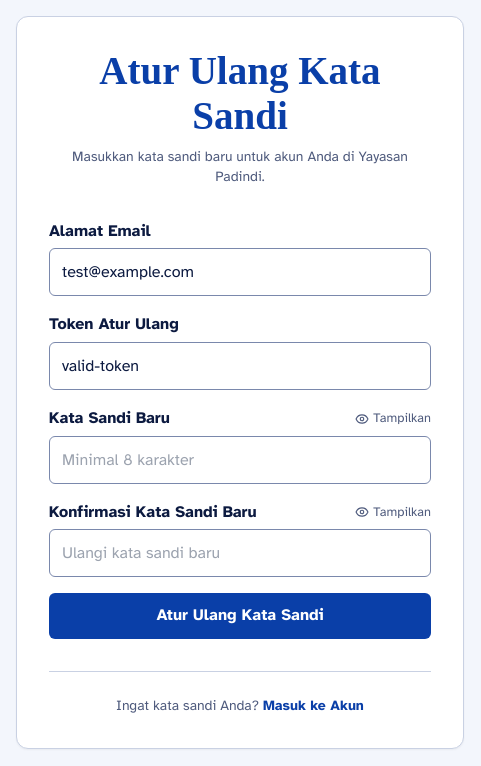
Test: ResetPasswordPage › berhasil mengirim kata sandi baru dan menampilkan pesan sukses
Type "KataSandi123" into the password field labelled "Kata Sandi Baru".
click(240, 460); type("KataSandi123")  # box [49, 436, 431, 484]
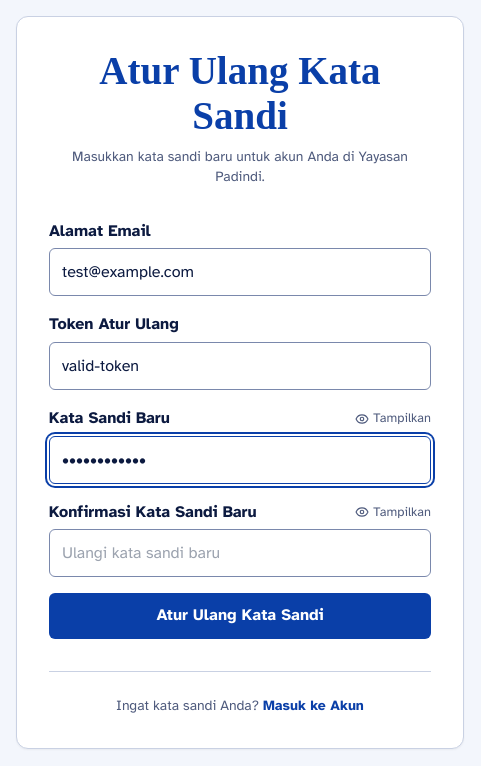
Type "KataSandi123" into the password field labelled "Konfirmasi Kata Sandi Baru".
click(240, 553); type("KataSandi123")  # box [49, 529, 431, 577]
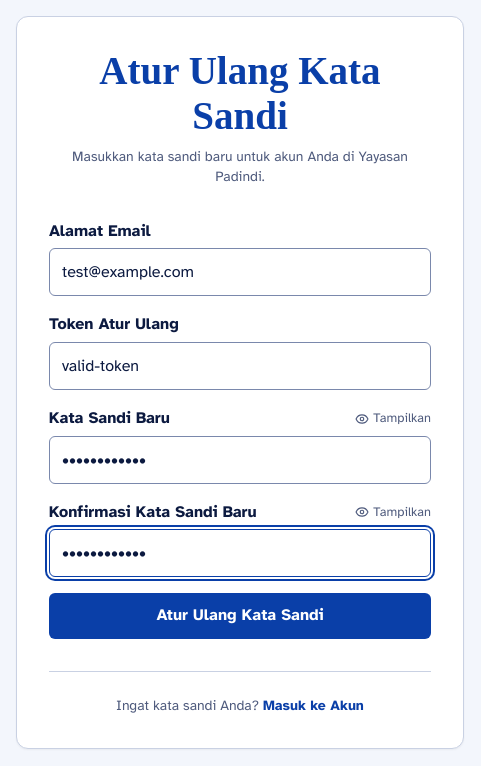
Click the button "Atur Ulang Kata Sandi".
click(240, 616)  # box [49, 593, 431, 639]
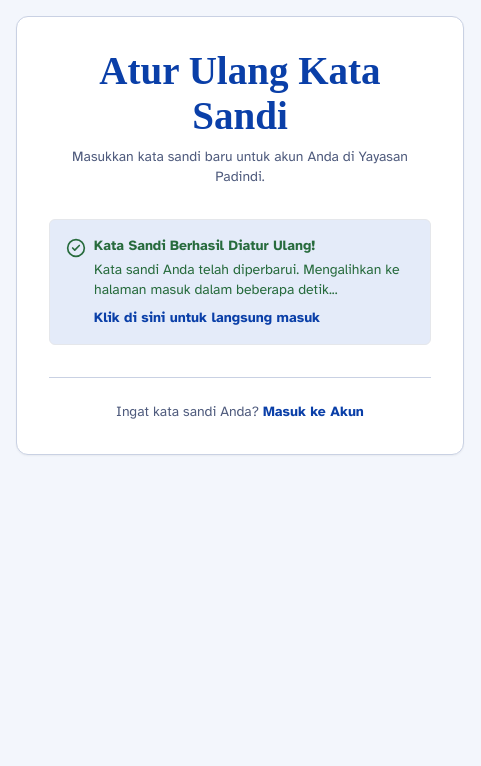
Result: the text "Kata Sandi Berhasil Diatur Ulang!" is shown at [94, 237, 315, 254]
Result: the link "Klik di sini untuk langsung masuk" is shown at [94, 308, 320, 328]
